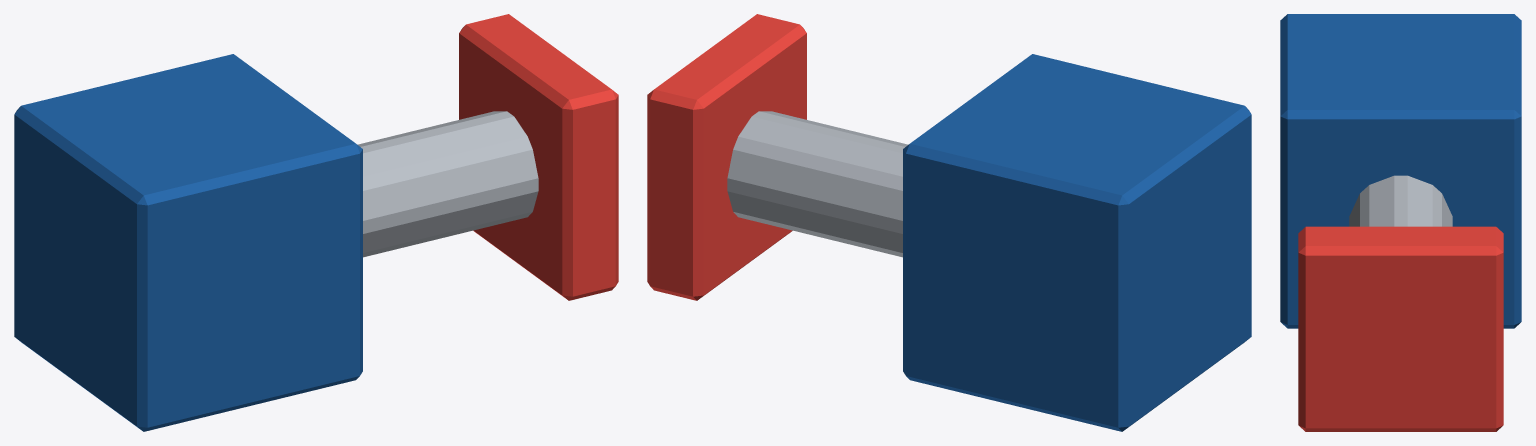
Rendered from piston.glb.
The picture shows the model from 3 angles, left to right: view 1: azimuth 30°, elevation 25°; view 2: azimuth 150°, elevation 25°; view 3: azimuth 270°, elevation 25°; orthographic projection. The views are drawn at different scales.
Parts seen in each view (by area): view 1: piston; view 2: piston; view 3: piston.
Part boxes in pixels (box(x1,y1,x2,y2)): piston: box(14, 14, 618, 431); piston: box(647, 14, 1251, 431); piston: box(1280, 14, 1521, 431).
Bounding box in the file's own units: 0.435 × 0.2 × 0.2.
